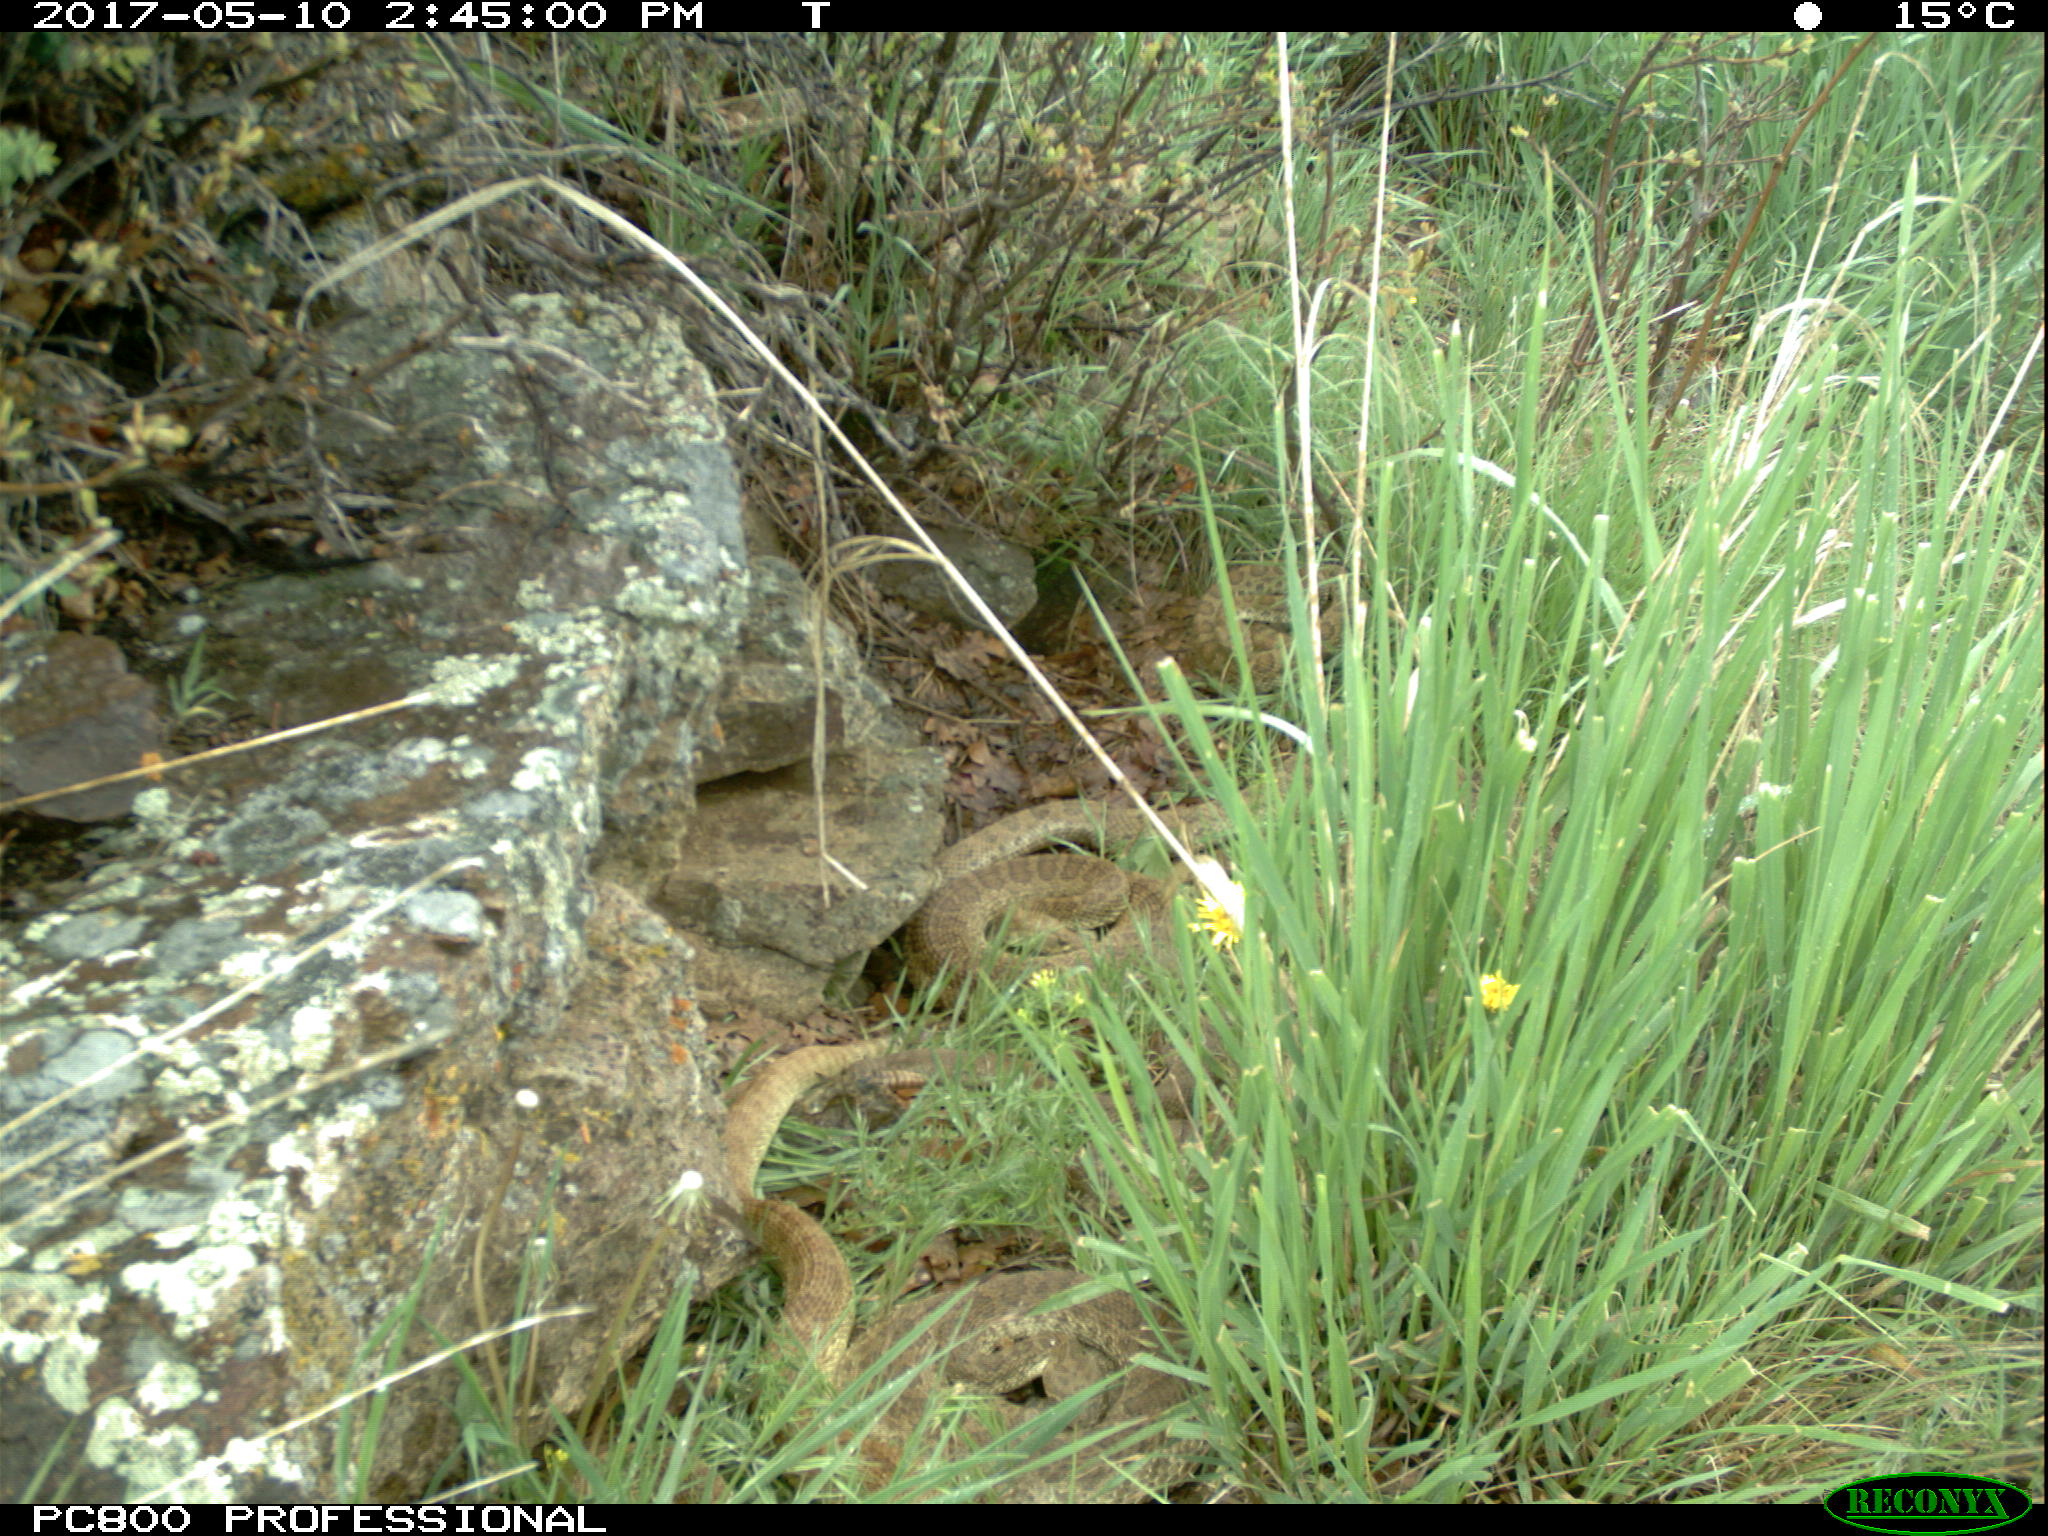snake: (837, 1263, 1219, 1504), (722, 1029, 887, 1439), (897, 792, 1195, 1002), (1147, 557, 1385, 691), (793, 1039, 1251, 1107), (1171, 745, 1361, 855), (581, 1442, 739, 1504)
